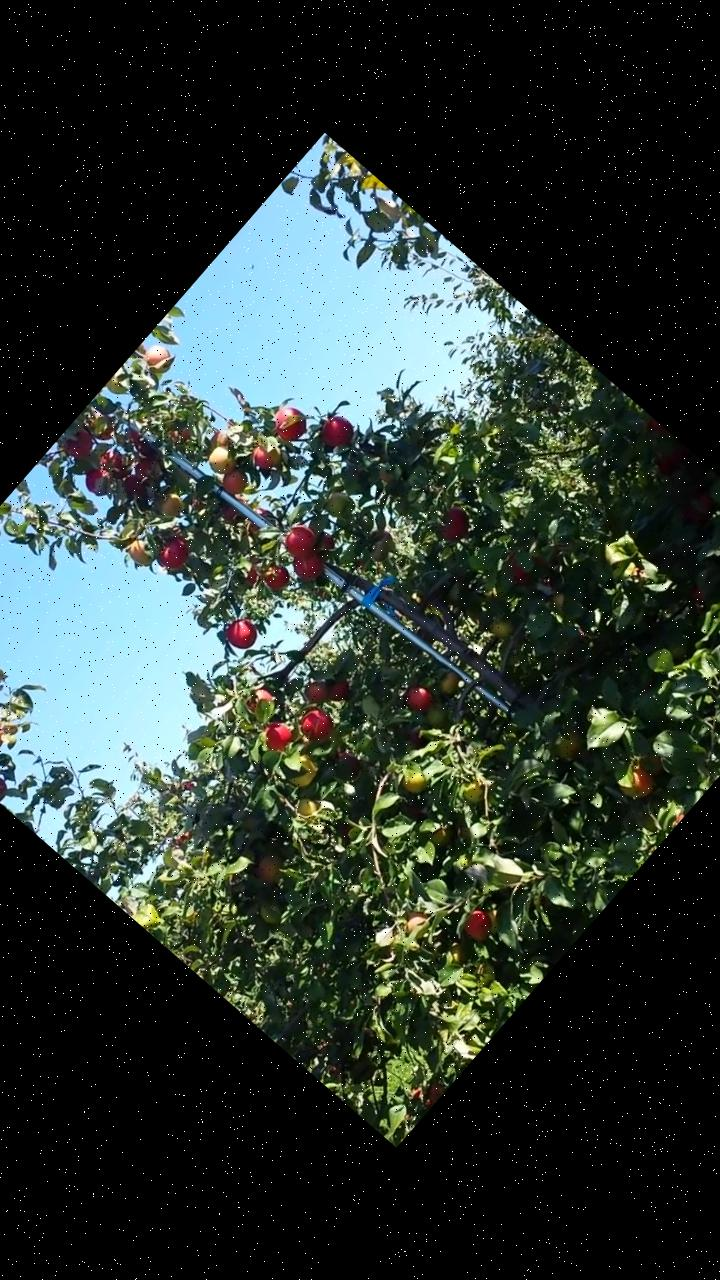Apple: (496, 538, 550, 593), (262, 398, 314, 450), (150, 532, 198, 580), (312, 408, 360, 456), (217, 610, 265, 658), (276, 518, 323, 566), (432, 501, 478, 547), (292, 700, 338, 746), (614, 761, 659, 806), (254, 713, 298, 757), (248, 847, 291, 891), (283, 751, 326, 794), (199, 439, 241, 481), (284, 544, 326, 586), (456, 904, 498, 946), (676, 487, 716, 529), (58, 424, 99, 464), (399, 678, 439, 718), (245, 438, 284, 478), (94, 446, 134, 484), (454, 772, 492, 810), (408, 1072, 446, 1110), (258, 560, 295, 596), (397, 765, 434, 801), (397, 902, 434, 938), (217, 463, 253, 499), (238, 502, 274, 538), (240, 682, 276, 718), (154, 488, 188, 524), (554, 725, 588, 760), (124, 536, 158, 570), (299, 676, 333, 710), (77, 461, 110, 495), (321, 674, 354, 708), (128, 450, 160, 482), (332, 743, 364, 775), (486, 611, 518, 643), (221, 492, 252, 524), (320, 487, 352, 518), (636, 413, 668, 443), (651, 442, 681, 473), (444, 939, 474, 970), (140, 340, 170, 370), (292, 792, 322, 822), (434, 669, 463, 699), (423, 700, 452, 730), (121, 426, 151, 454), (118, 471, 147, 499), (426, 822, 454, 850), (544, 588, 572, 615), (93, 418, 119, 444), (209, 426, 235, 452), (403, 722, 429, 748), (168, 421, 193, 446), (482, 904, 506, 928), (316, 528, 338, 552), (240, 566, 262, 589), (688, 583, 710, 606), (0, 768, 12, 803), (0, 730, 9, 755), (670, 811, 684, 826)
